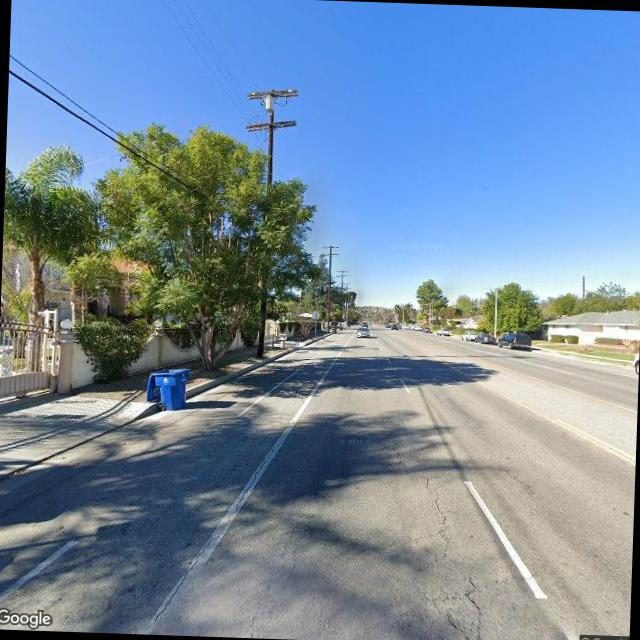crack: (399, 463, 507, 640)
pothole: (148, 438, 274, 624), (495, 462, 536, 492)
